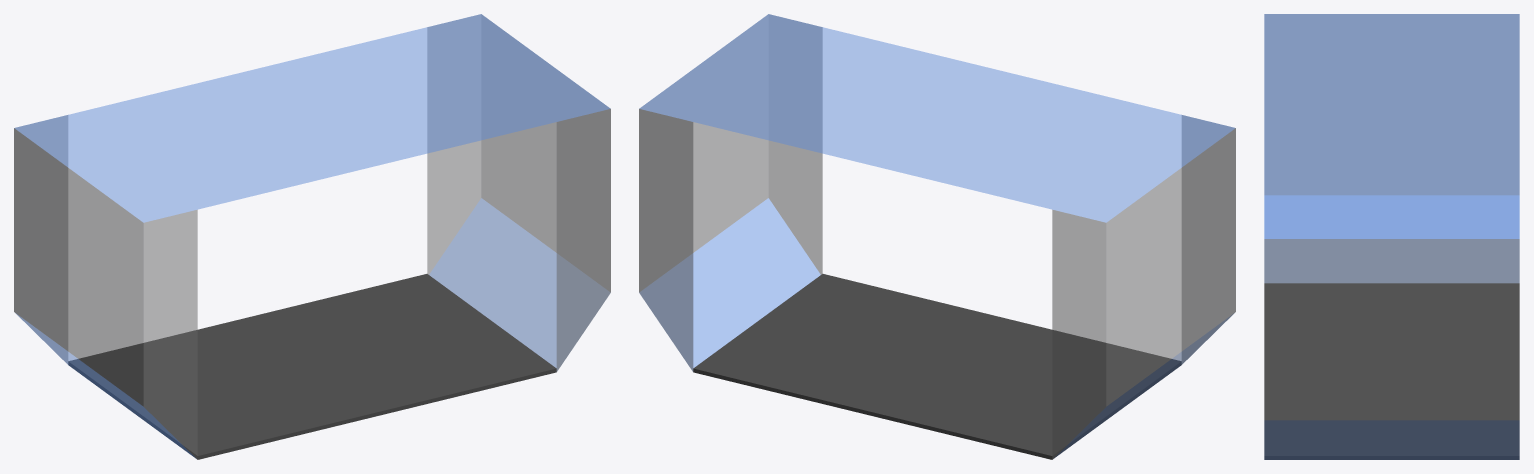
The model's file is dqf.gltf.
The picture shows the model from 3 angles, left to right: view 1: azimuth 30°, elevation 25°; view 2: azimuth 150°, elevation 25°; view 3: azimuth 270°, elevation 25°; orthographic projection.
Visible parts, largest first — view 1: root; view 2: root; view 3: root.
Boxes of the visible parts, x1=… form: root: x1=14, y1=14, x2=610, y2=459; root: x1=639, y1=14, x2=1235, y2=459; root: x1=1264, y1=14, x2=1519, y2=459.
Size of the model in its own units: 3.17 by 1.63 by 1.52.
